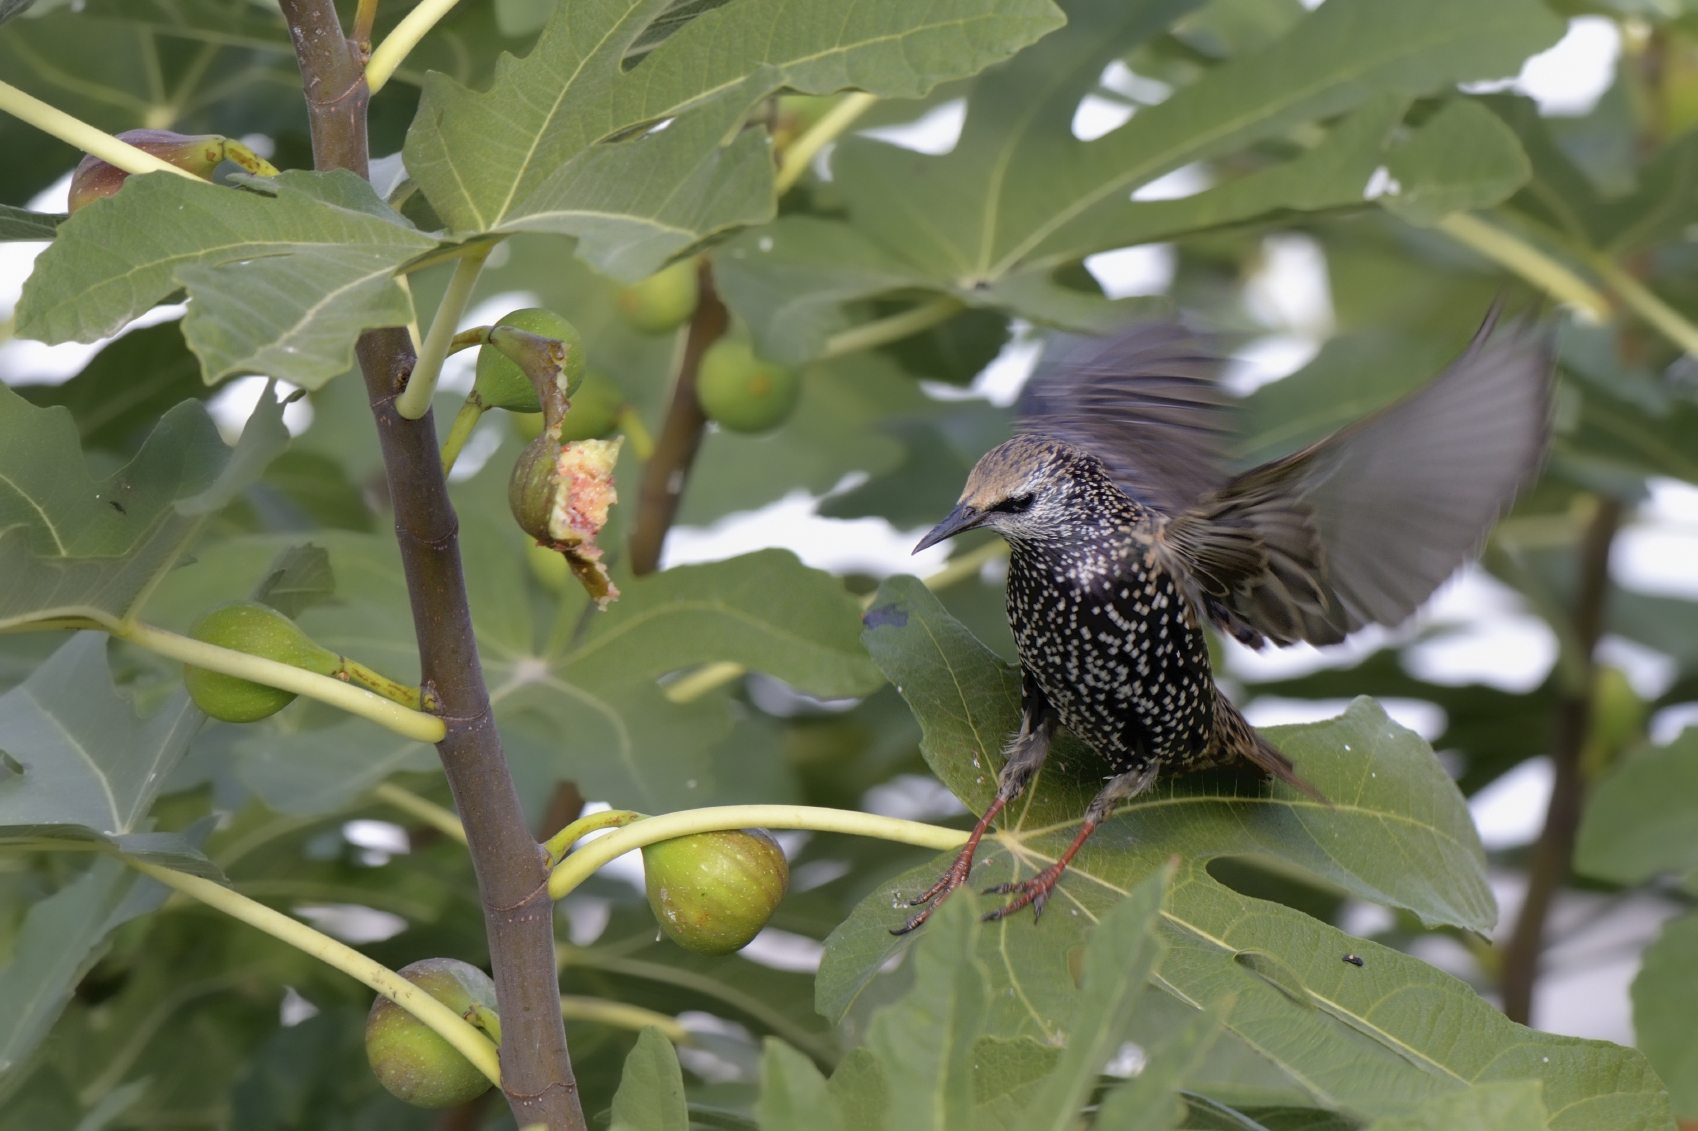bird: (864, 261, 1587, 1009)
